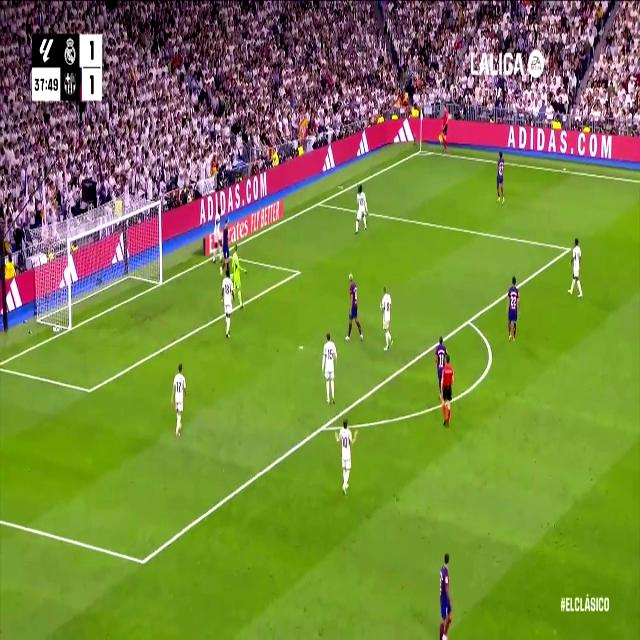bigarea_bottom_inner: (136, 544, 150, 578)
bigarea_top_inner: (564, 240, 573, 258)
bottom_arc_area_intersection: (317, 415, 329, 438)
corner: (416, 145, 426, 155)
smallarea_top_inner: (294, 262, 302, 280)
top_arc_area_intersection: (464, 310, 473, 330)
